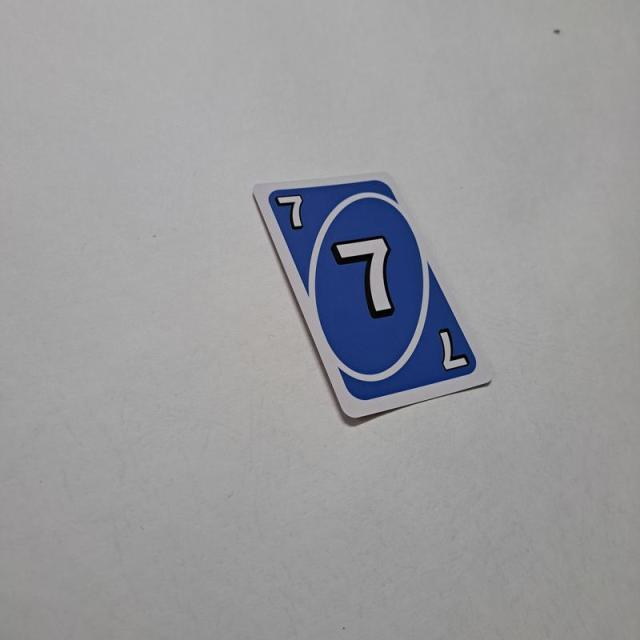Blue_Card: (266, 175, 478, 403)
Number_7: (271, 186, 308, 237)
